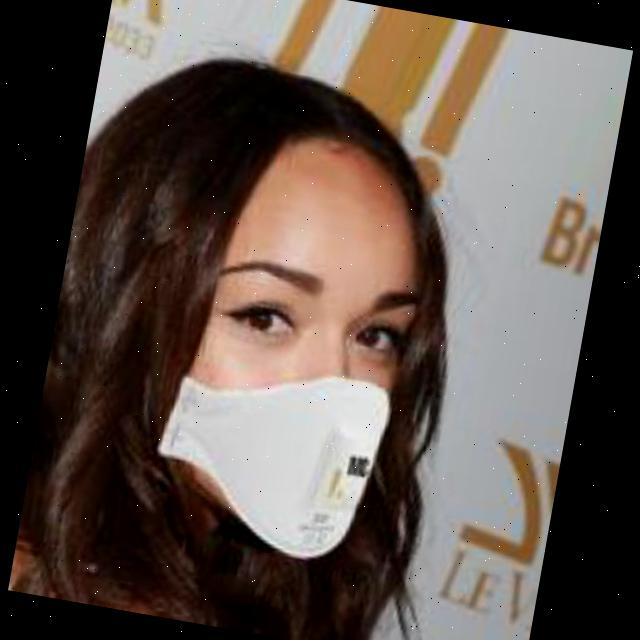suspicion: (52, 23, 498, 611)
